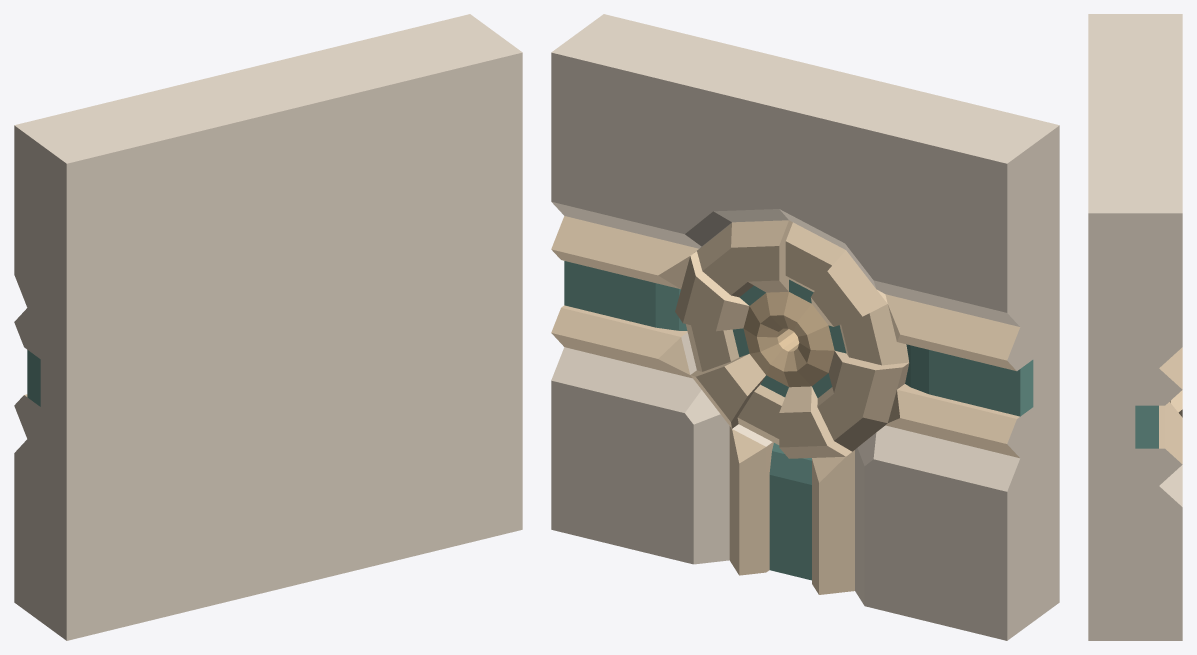
File: Puzzle_Wall_Conduit_Emitter_TJoint.glb
The picture shows the model from 3 angles, left to right: view 1: azimuth 30°, elevation 25°; view 2: azimuth 150°, elevation 25°; view 3: azimuth 270°, elevation 25°; orthographic projection. The views are drawn at different scales.
Visible parts, largest first — view 1: Puzzle_Wall_Conduit_Emitter_TJoint; view 2: Puzzle_Wall_Conduit_Emitter_TJoint; view 3: Puzzle_Wall_Conduit_Emitter_TJoint.
Part boxes in pixels (x1,y1,x2,y2): Puzzle_Wall_Conduit_Emitter_TJoint: (14,14,522,640); Puzzle_Wall_Conduit_Emitter_TJoint: (551,14,1059,640); Puzzle_Wall_Conduit_Emitter_TJoint: (1088,14,1182,640).
Bounding box in the file's own units: 1 × 1 × 0.2.
